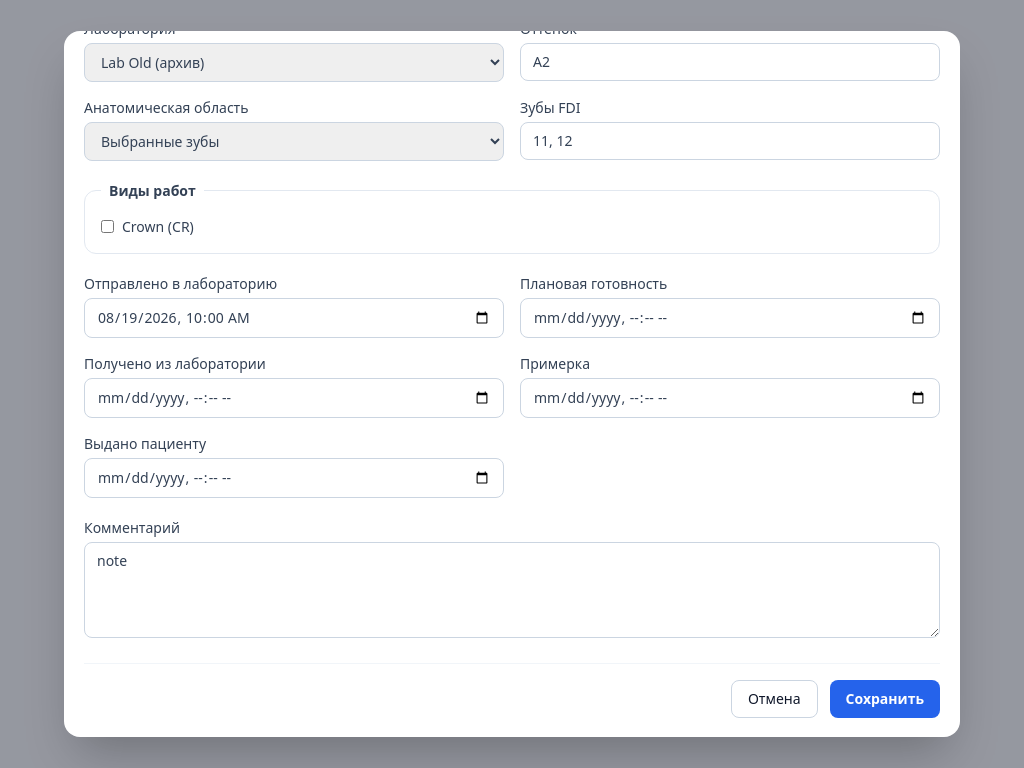
Test: LaboratoryWorkOrderDialog › blocks edit when mutationVersion is missing
(page scrolled)
Click the button with test id "laboratory-form-submit" at (885, 699), box [830, 680, 940, 718]
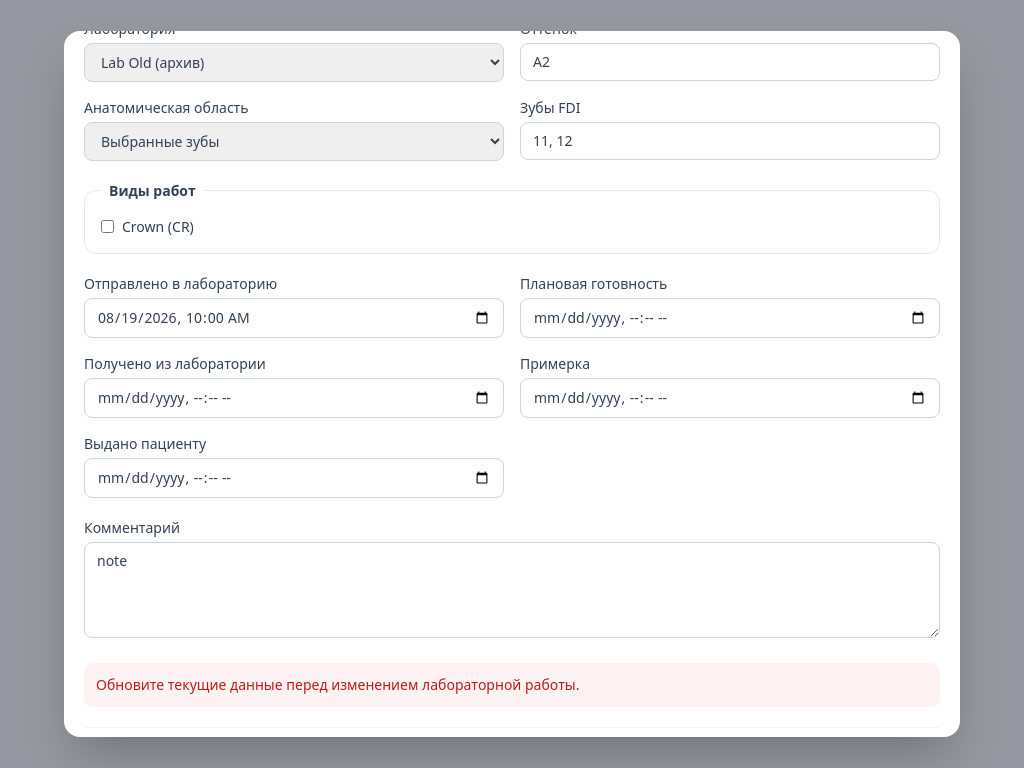
expect the text with test id "laboratory-form-error" shows "Обновите текущие данные": met, box [96, 675, 580, 694]
